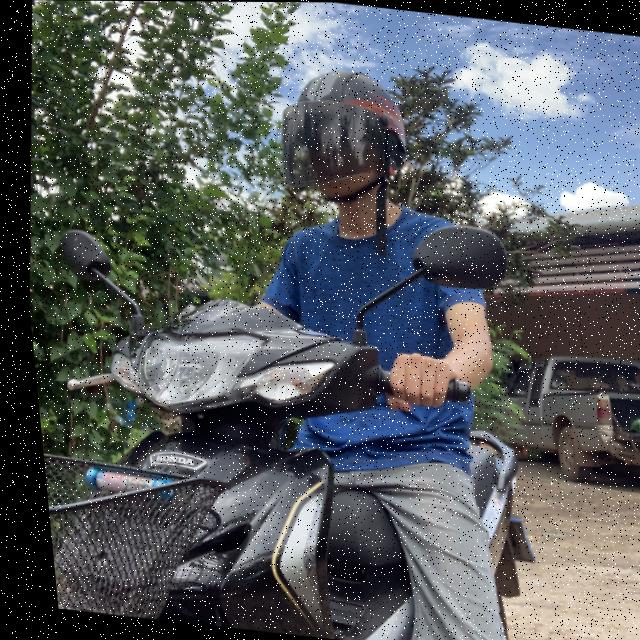helmet: (261, 57, 420, 214)
